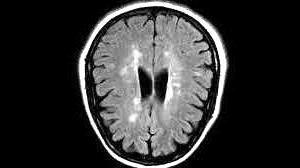Normal_Brain: (64, 1, 255, 168)
